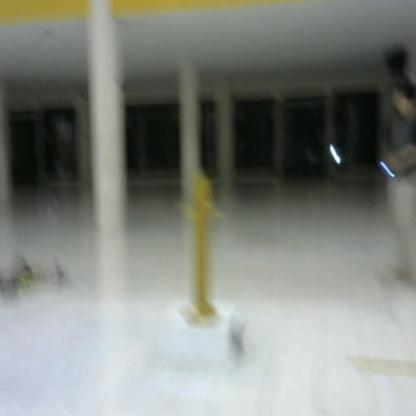pole: (175, 173, 234, 329)
